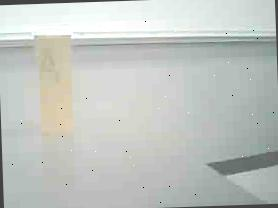Bottle A: (26, 20, 81, 146)
